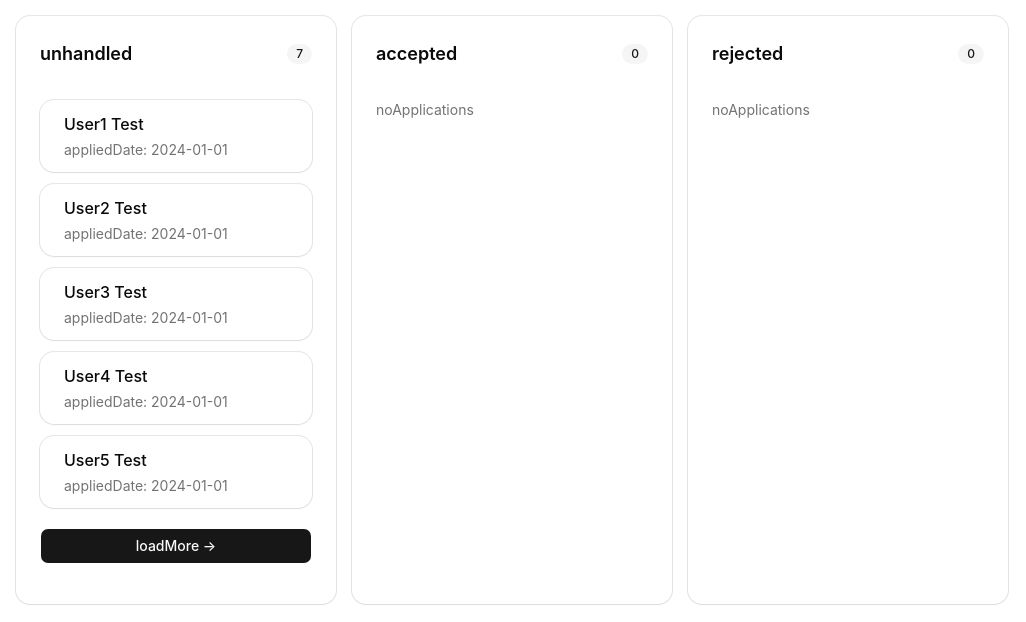
ApplicationBoard › disables load more button while loading and prevents duplicate requests
What coordinates should you click on to do the following:
click the button "loadMore →"
I would click on:
 (176, 546)
Its box is x1=40 y1=528 x2=312 y2=564.
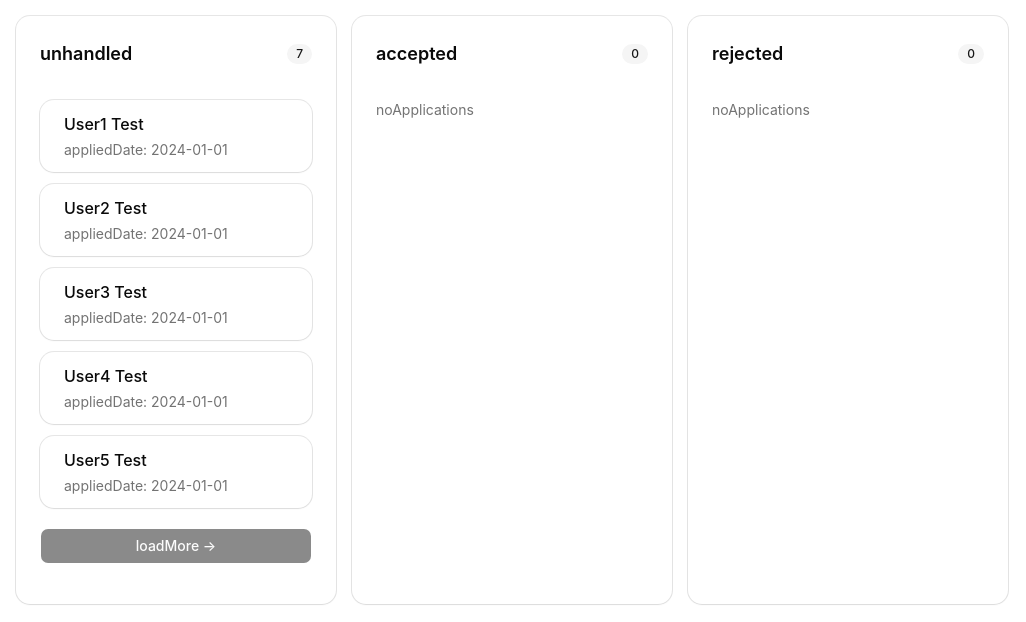
Check: the button "loadMore →" is disabled
What coordinates should you click on to do the following:
click the button "loadMore →"
I would click on:
 (176, 546)
Its box is x1=40 y1=528 x2=312 y2=564.
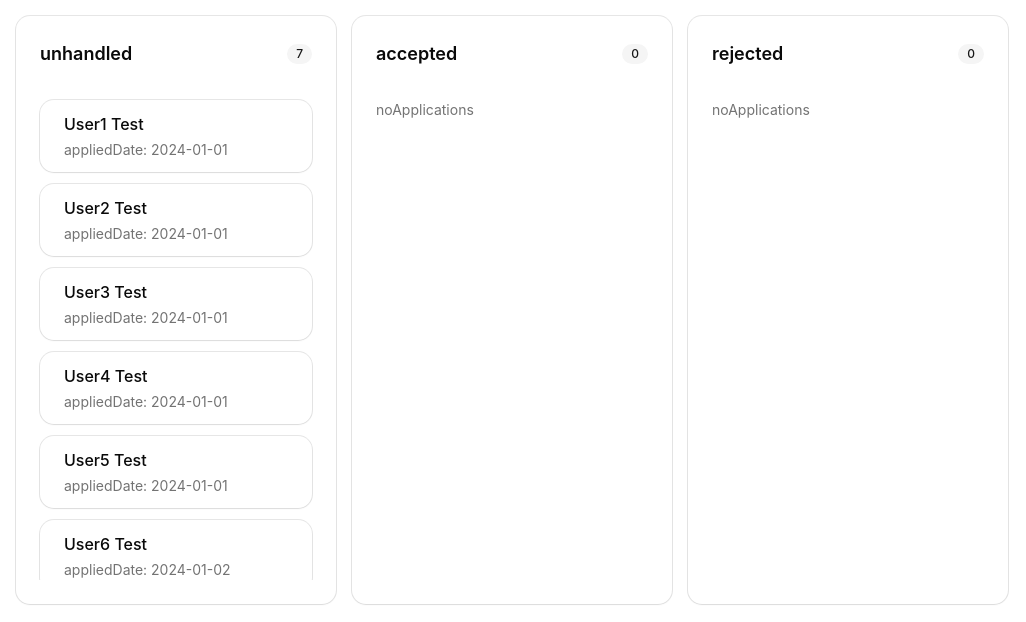
Check: the text "User6 Test" is shown, box x1=64 y1=534 x2=147 y2=554
Check: the button "loadMore" is gone
